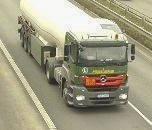truck: (17, 0, 136, 109)
